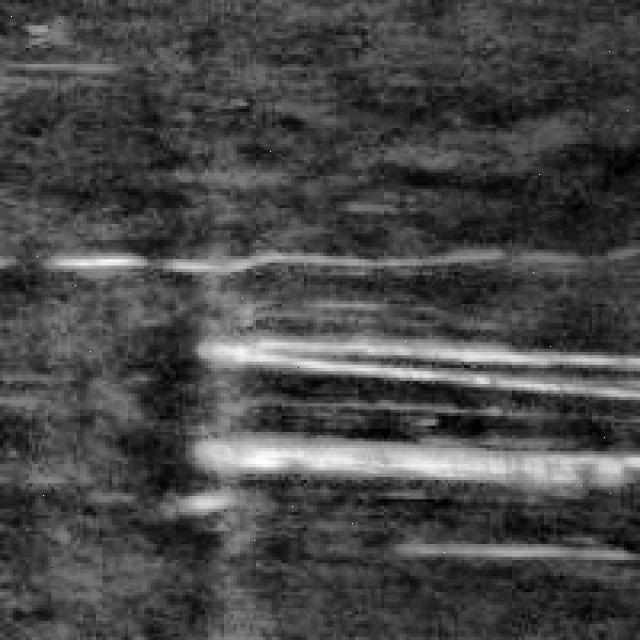Inclusion: (166, 419, 634, 509), (192, 324, 634, 406), (38, 236, 496, 278), (390, 528, 621, 560)
